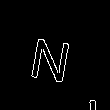N_N: (31, 27, 79, 83)
